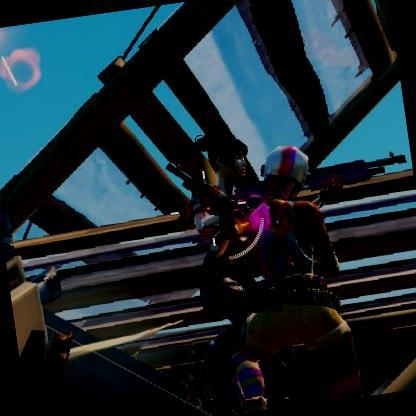person: (260, 136, 358, 391), (196, 128, 258, 200)
